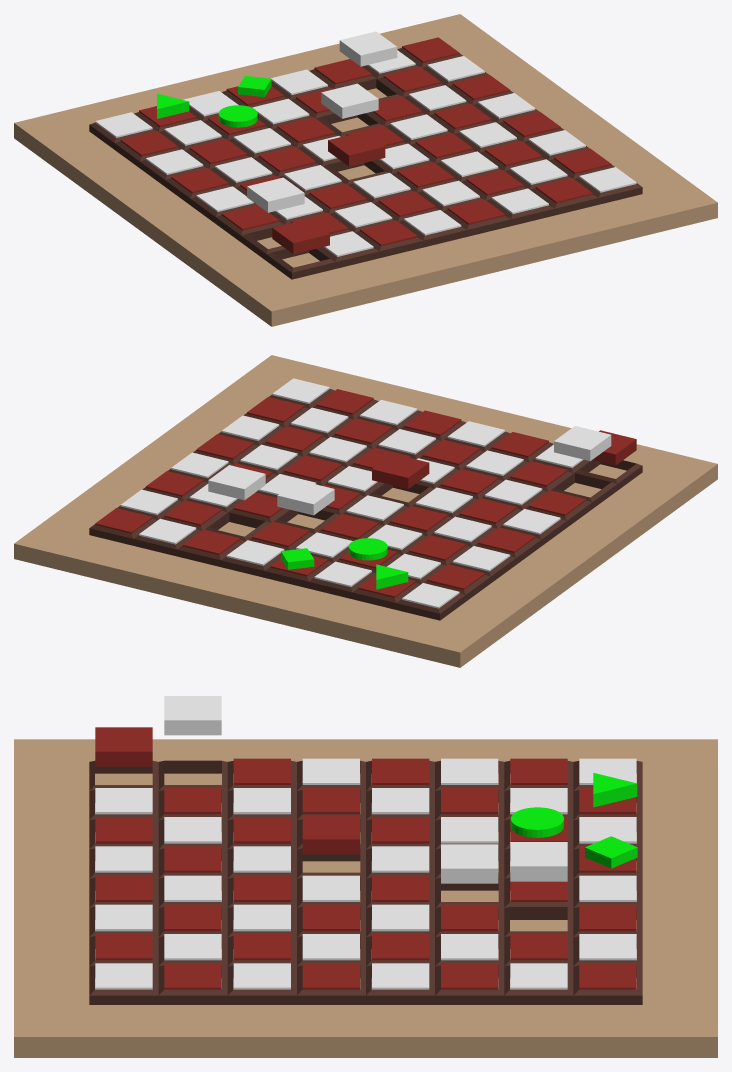
Rendered from chess9.gltf.
3 renders of one model, top to bottom at view 1: azimuth 30°, elevation 25°; view 2: azimuth 150°, elevation 25°; view 3: azimuth 270°, elevation 25°, orthographic. The views are drawn at different scales.
Parts seen in each view (by area): view 1: board_base, tile.031, tile.016, tile.003, tile.048, tile.049, trim.049, tile.014, tile.027, tile.037, tile.041, tile.042 (+63 smaller); view 2: board_base, tile.016, tile.031, tile.003, tile.048, trim.048, tile.054, tile.015, tile.043, tile.046, tile.008, tile.028 (+64 smaller); view 3: board_base, tile.016, tile.031, tile.048, tile.049, tile.003, tile.039, tile.054, tile.055, tile.014, tile.015, tile.023 (+92 smaller).
Boxes of the visible parts, x1=… form: board_base: x1=14, y1=14, x2=717, y2=326; tile.031: x1=339, y1=31, x2=397, y2=66; tile.016: x1=321, y1=83, x2=378, y2=118; tile.003: x1=328, y1=131, x2=385, y2=166; tile.048: x1=247, y1=177, x2=304, y2=212; tile.049: x1=272, y1=219, x2=329, y2=254; trim.049: x1=266, y1=248, x2=335, y2=279; tile.014: x1=390, y1=114, x2=447, y2=139; tile.027: x1=164, y1=120, x2=221, y2=145; tile.037: x1=402, y1=37, x2=459, y2=62; tile.041: x1=447, y1=199, x2=505, y2=224; tile.042: x1=378, y1=191, x2=435, y2=216; board_base: x1=14, y1=355, x2=717, y2=667; tile.016: x1=277, y1=480, x2=334, y2=515; tile.031: x1=208, y1=465, x2=265, y2=500; tile.003: x1=372, y1=454, x2=429, y2=488; tile.048: x1=554, y1=426, x2=611, y2=461; trim.048: x1=550, y1=473, x2=617, y2=509; tile.054: x1=334, y1=418, x2=392, y2=443; tile.015: x1=284, y1=455, x2=341, y2=480; tile.043: x1=447, y1=421, x2=505, y2=446; tile.046: x1=510, y1=461, x2=567, y2=486; tile.008: x1=478, y1=527, x2=535, y2=552; tile.028: x1=427, y1=564, x2=484, y2=589; board_base: x1=14, y1=739, x2=717, y2=1057; tile.016: x1=441, y1=844, x2=498, y2=883; tile.031: x1=510, y1=842, x2=567, y2=881; tile.048: x1=164, y1=696, x2=221, y2=735; tile.049: x1=95, y1=727, x2=152, y2=766; tile.003: x1=302, y1=815, x2=359, y2=854; tile.039: x1=579, y1=904, x2=636, y2=931; tile.054: x1=164, y1=904, x2=221, y2=931; tile.055: x1=95, y1=904, x2=152, y2=931; tile.014: x1=372, y1=904, x2=429, y2=931; tile.015: x1=302, y1=904, x2=359, y2=931; tile.023: x1=441, y1=904, x2=498, y2=931.
Size of the model in its own units: 20.36 by 3.15 by 20.36.
